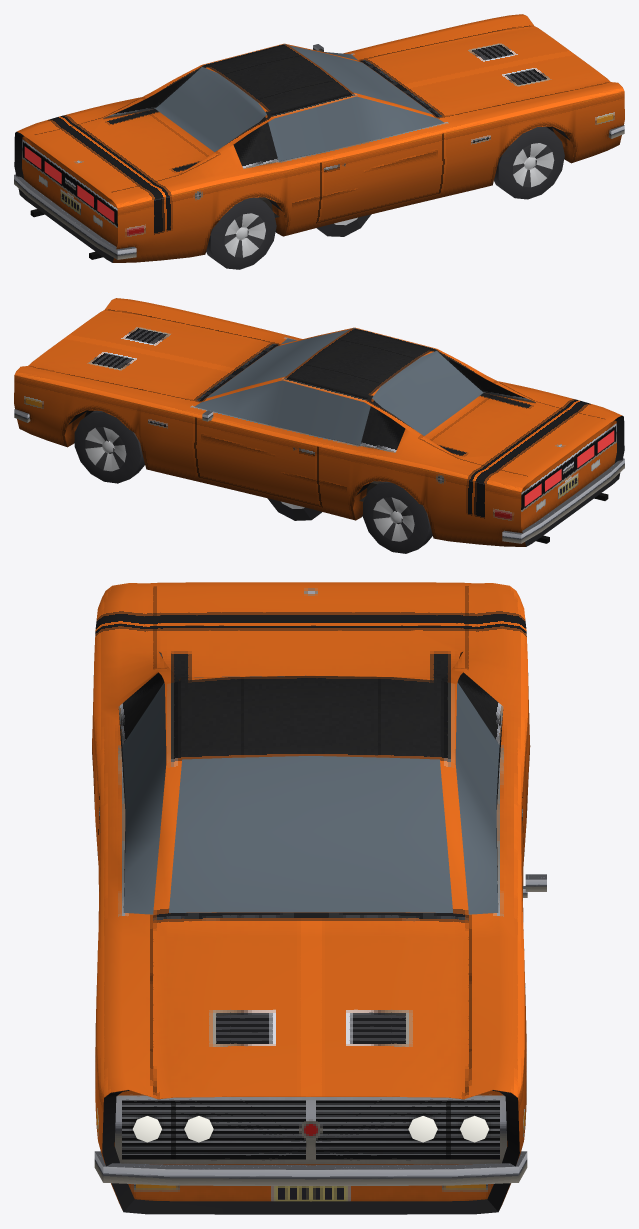
File: ravager.glb
3 views of the same model, one above another, from view 1: azimuth 30°, elevation 25°; view 2: azimuth 150°, elevation 25°; view 3: azimuth 270°, elevation 25° (orthographic). The views are drawn at different scales.
Visible parts, largest first — view 1: body, wheel front right, wheel rear right, wheel_blur; view 2: body, wheel front left, wheel rear left, wheel_blur; view 3: body.
Boxes of the visible parts, x1,y1,x2,y2 form: body: (14,14,624,262); wheel front right: (494,126,564,199); wheel rear right: (206,197,276,269); wheel_blur: (316,214,371,236); body: (14,298,624,546); wheel front left: (74,410,144,483); wheel rear left: (363,481,432,553); wheel_blur: (267,498,321,520); body: (92,582,546,1214).
Bounding box in the file's own units: 4.88 × 1.56 × 1.87.
8 materials, 1 textured.
